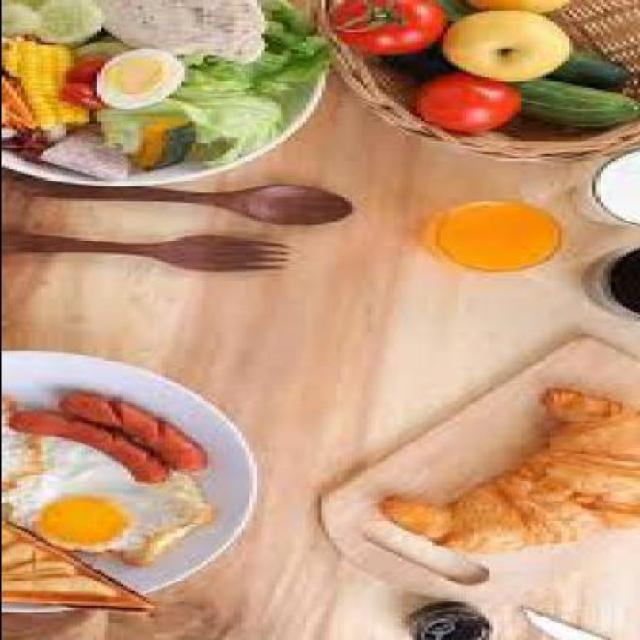BIODEGRADABLE: (377, 389, 638, 560), (5, 400, 217, 572), (386, 26, 628, 88), (3, 522, 160, 615), (187, 7, 331, 96), (7, 412, 164, 486), (98, 2, 271, 67), (61, 396, 205, 473), (442, 12, 580, 86), (427, 200, 564, 272), (8, 45, 90, 141), (408, 78, 526, 139), (187, 92, 285, 163), (328, 2, 449, 58), (514, 78, 638, 132), (95, 47, 191, 113), (41, 128, 137, 180), (4, 2, 102, 46), (125, 121, 198, 176), (4, 398, 38, 488), (464, 2, 578, 13)
GLASS: (434, 204, 564, 271), (572, 150, 639, 232), (578, 248, 638, 323)
METAL: (523, 610, 611, 638)
PLASTIC: (11, 177, 358, 229), (4, 229, 293, 274)
